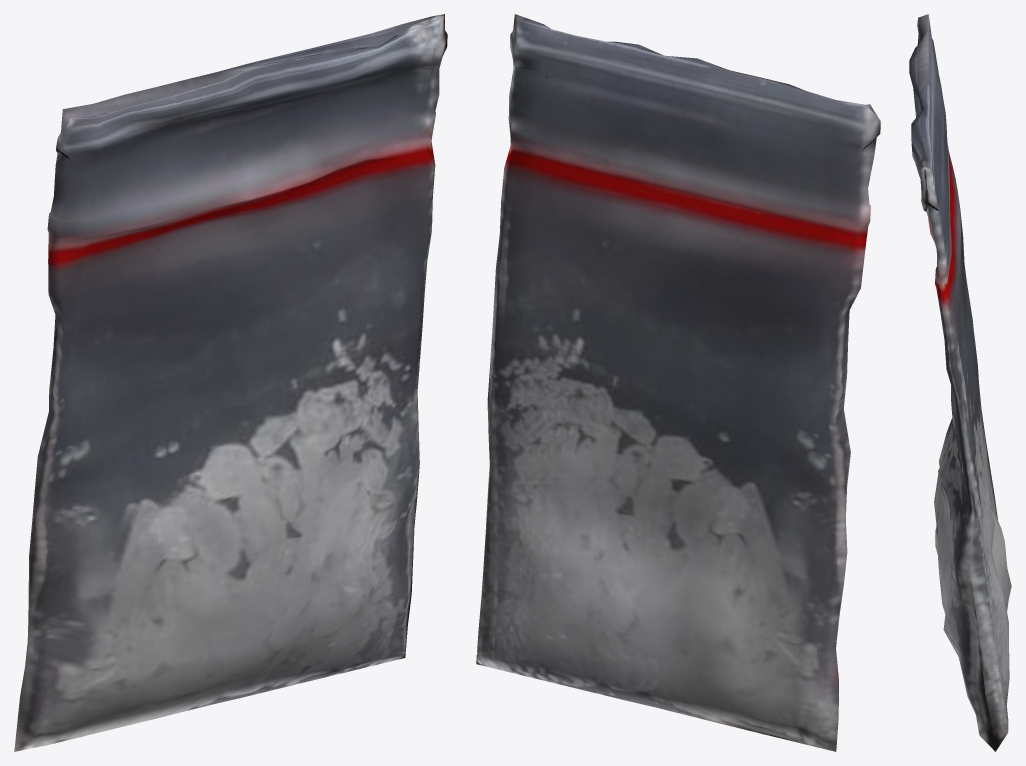
The model's file is 6.sabu bungkus.fbx.
3 renders of one model, left to right at view 1: azimuth 30°, elevation 25°; view 2: azimuth 150°, elevation 25°; view 3: azimuth 270°, elevation 25°, orthographic. The views are drawn at different scales.
Parts seen in each view (by area): view 1: Cube.001; view 2: Cube.001; view 3: Cube.001.
Boxes of the visible parts, x1=… form: Cube.001: x1=14, y1=14, x2=447, y2=751; Cube.001: x1=476, y1=14, x2=880, y2=751; Cube.001: x1=909, y1=14, x2=1011, y2=751.
Size of the model in its own units: 346 by 562 by 89.81.
